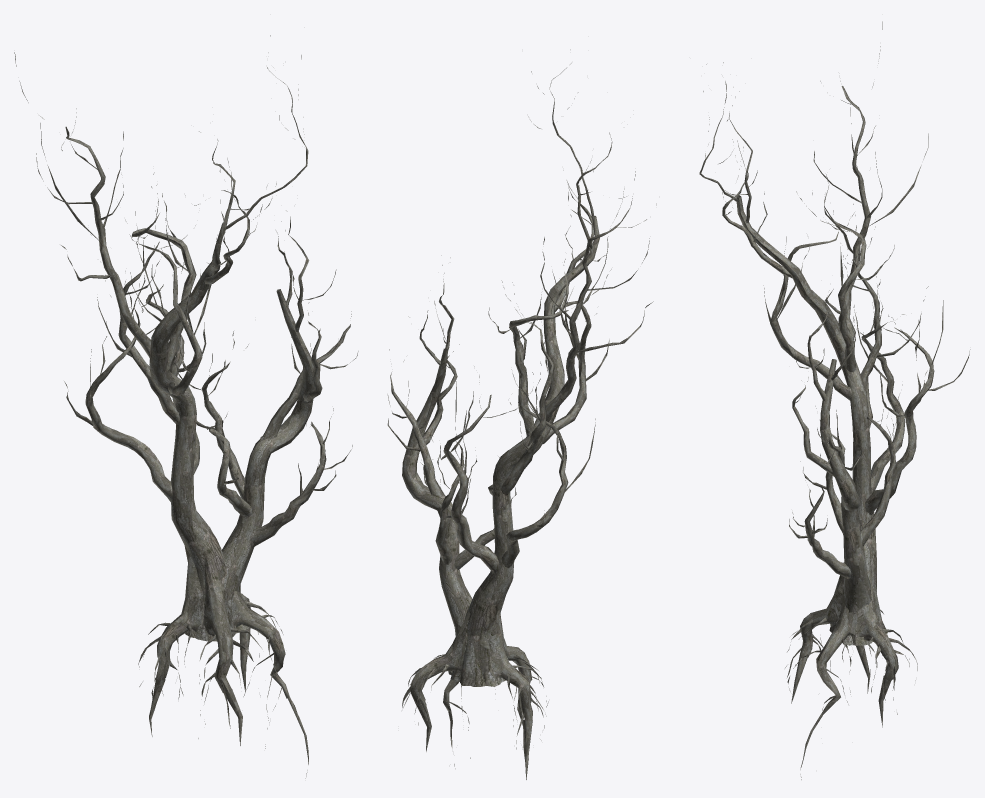
File: olu_agac_a.gltf
The picture shows the model from 3 angles, left to right: view 1: azimuth 30°, elevation 25°; view 2: azimuth 150°, elevation 25°; view 3: azimuth 270°, elevation 25°; orthographic projection. The views are drawn at different scales.
Visible parts, largest first — view 1: olu_agac_a; view 2: olu_agac_a; view 3: olu_agac_a.
Part boxes in pixels (<box>): olu_agac_a: <box>14,35,358,778</box>; olu_agac_a: <box>387,49,656,779</box>; olu_agac_a: <box>699,21,970,779</box>.
Bounding box in the file's own units: 2.9 × 7.37 × 2.61.
Materials: 1 (1 with a texture image).
